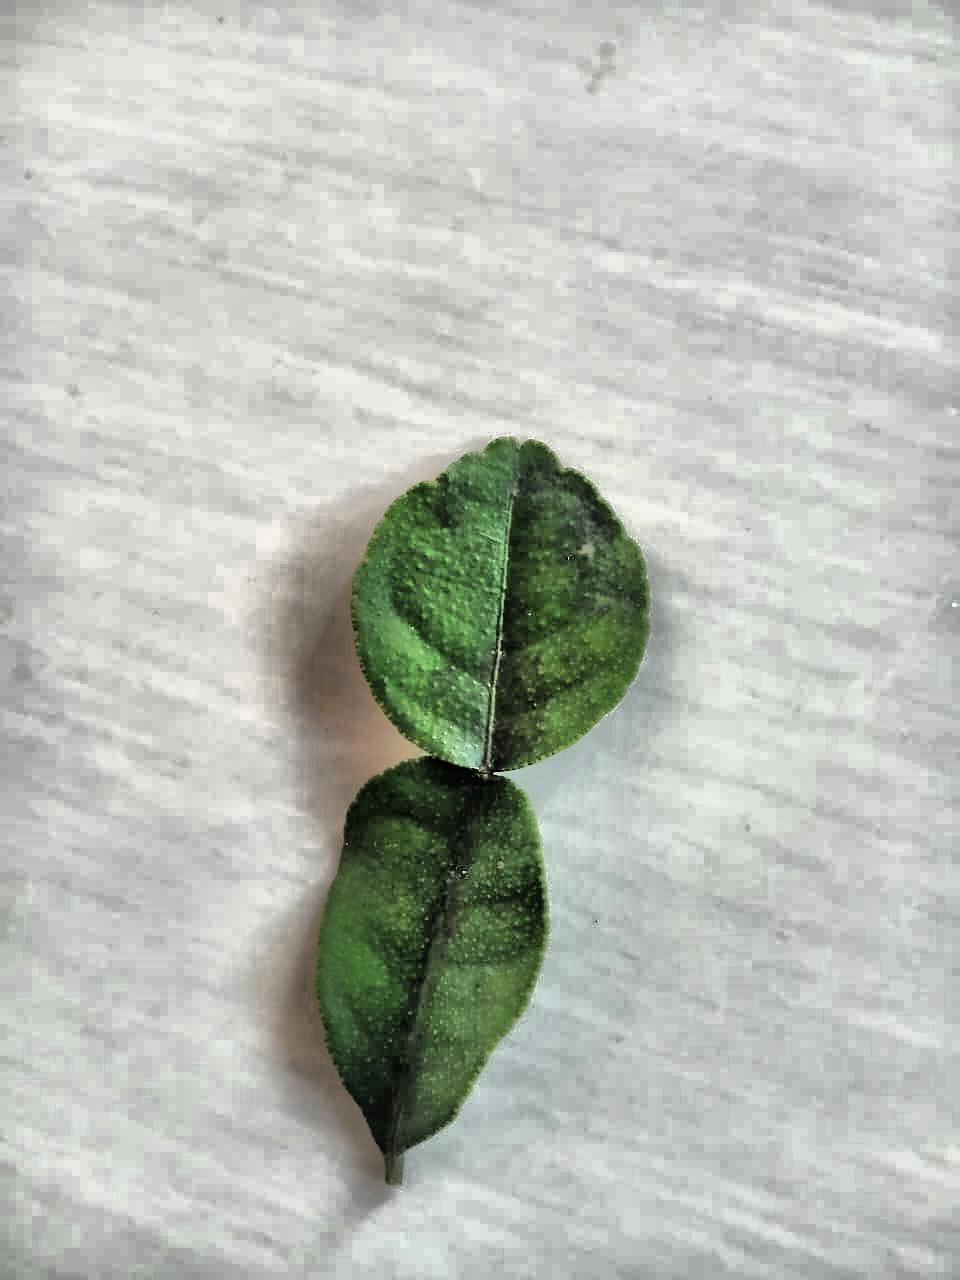daun jeruk: (316, 438, 649, 1184)
